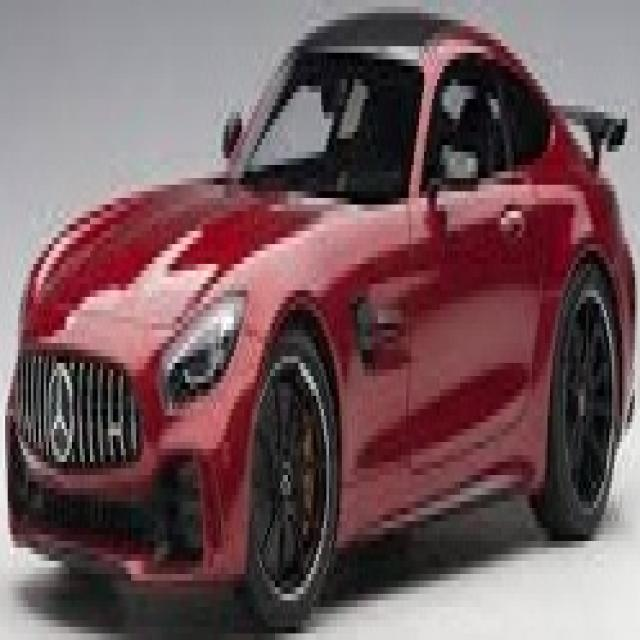maroon: (18, 18, 640, 561)
